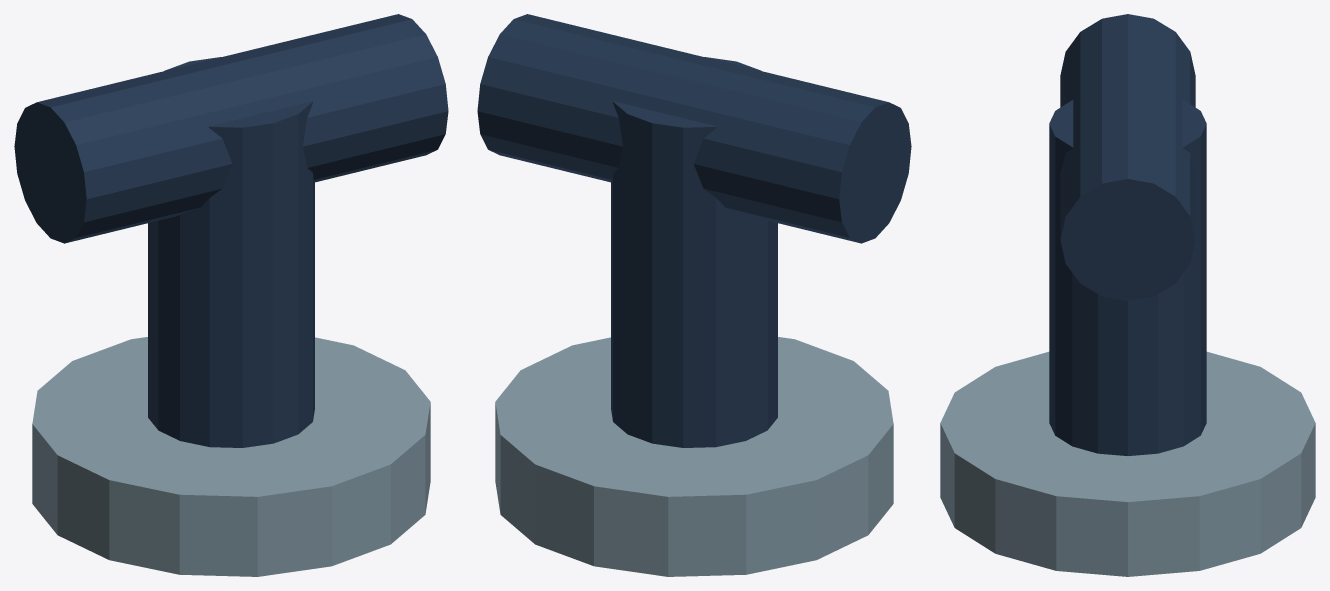
The model's file is bollard.glb.
3 views of the same model, side by side, from view 1: azimuth 30°, elevation 25°; view 2: azimuth 150°, elevation 25°; view 3: azimuth 270°, elevation 25° (orthographic). The views are drawn at different scales.
Parts seen in each view (by area): view 1: base, crossbar, stem; view 2: base, crossbar, stem; view 3: base, crossbar, stem.
Boxes of the visible parts, x1,y1,x2,y2 form: base: (32,337,430,576); crossbar: (14,14,448,243); stem: (148,57,314,447); base: (495,337,893,576); crossbar: (477,14,911,243); stem: (611,57,777,447); base: (940,351,1315,576); crossbar: (1060,14,1195,301); stem: (1049,100,1206,455).
Size of the model in its own units: 0.52 by 0.59 by 0.5.
